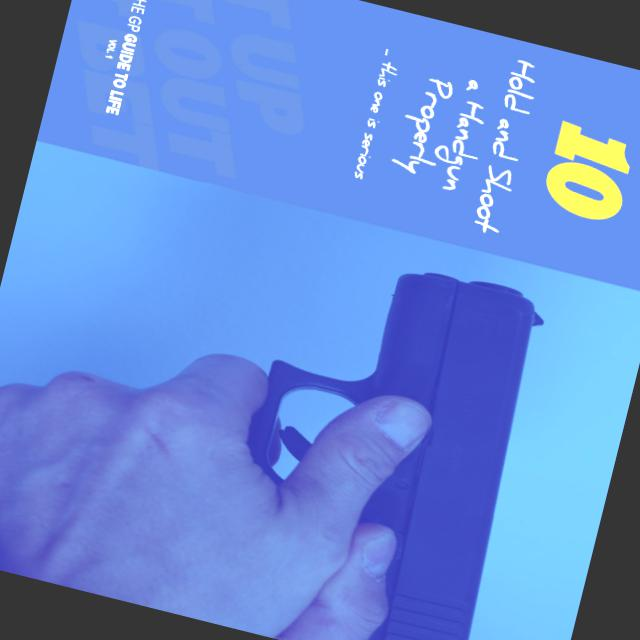handgun: (187, 230, 579, 639)
